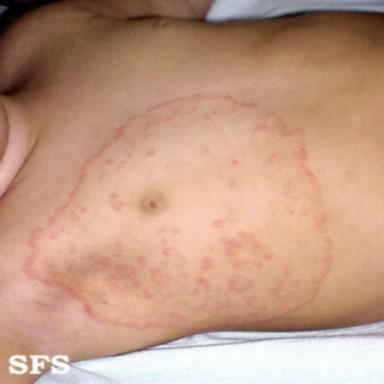Tinea-Corporis: (25, 95, 332, 328)
